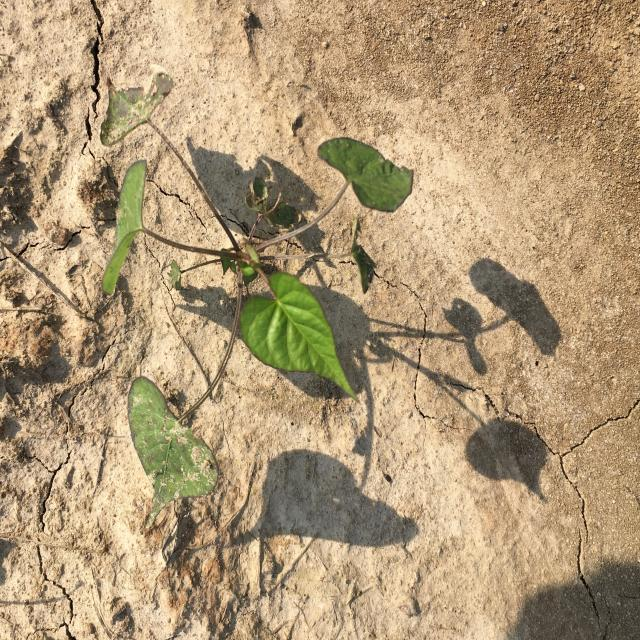MorningGlory: (100, 74, 414, 530)
